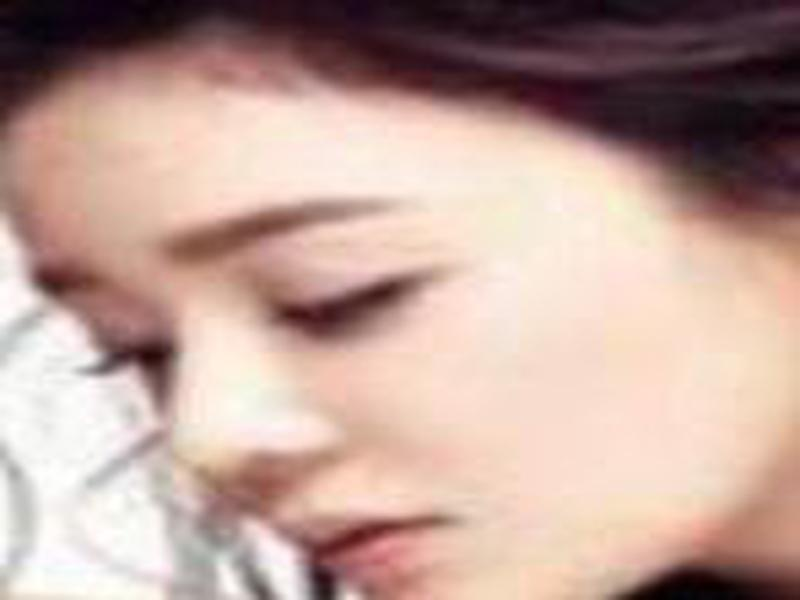without_mask: (6, 74, 791, 597)
